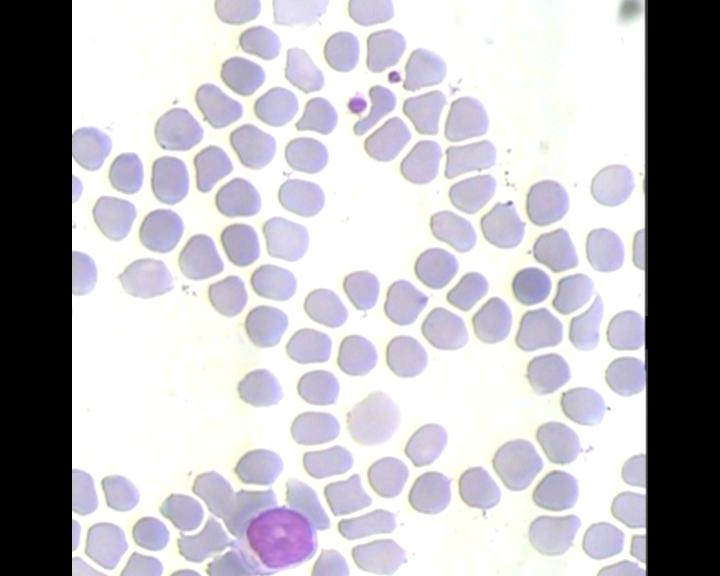lymp: (228, 499, 325, 576)
